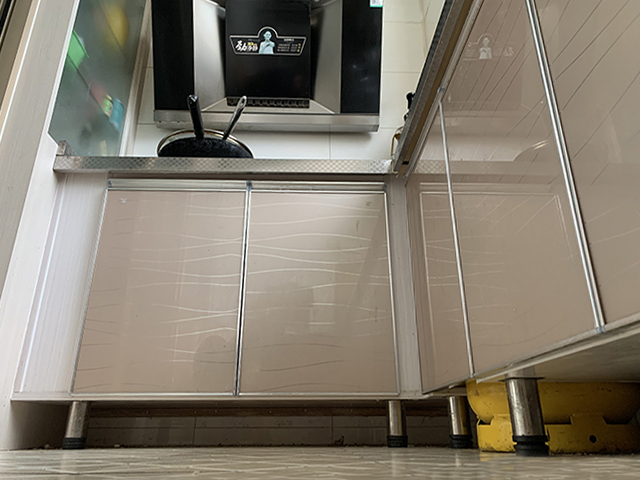cabinet: (401, 14, 639, 457), (64, 153, 403, 447)
